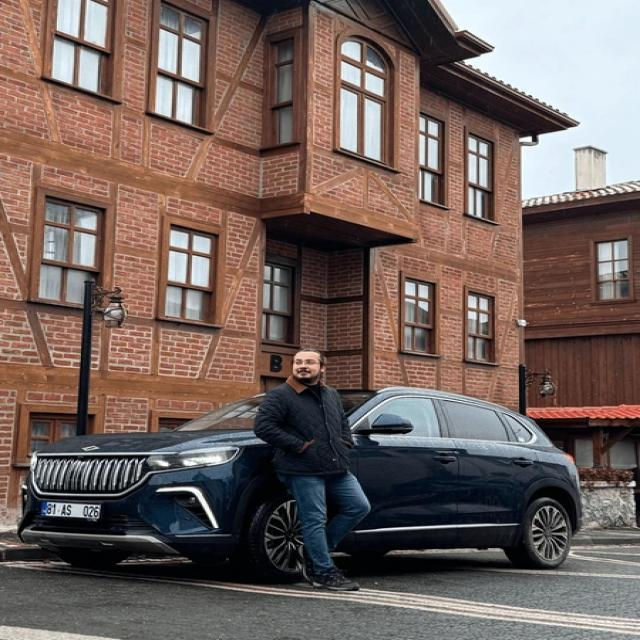togg: (77, 442, 106, 452)
